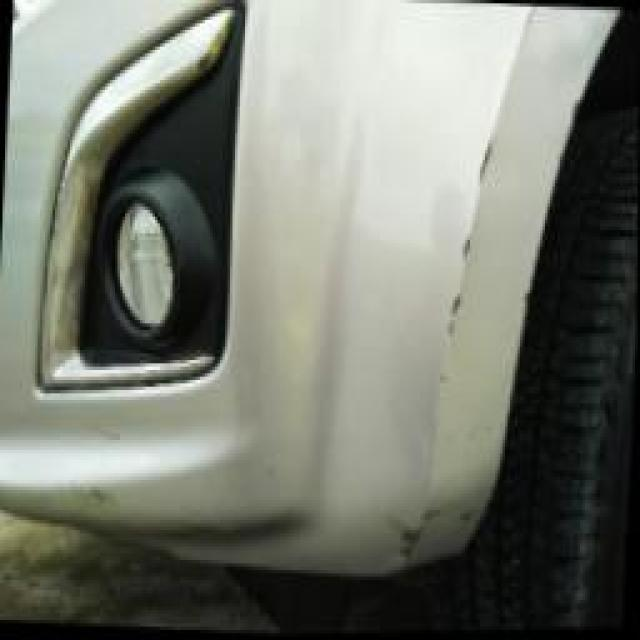Bumper: (322, 13, 575, 594)
